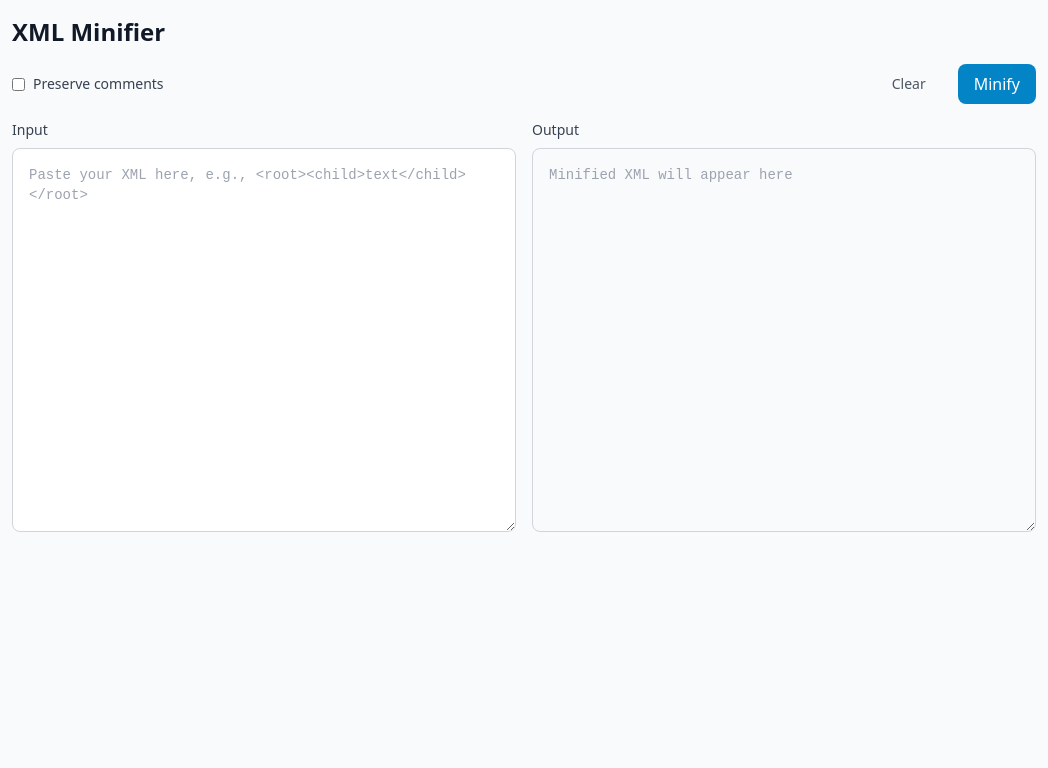
it: XmlMinifier › shows 0% savings for already minified XML
Type "<root/>" into the text box with placeholder "Paste your XML here, e.g., <root><child>text</child></root>". click: (264, 340)
box: [12,148,516,532]
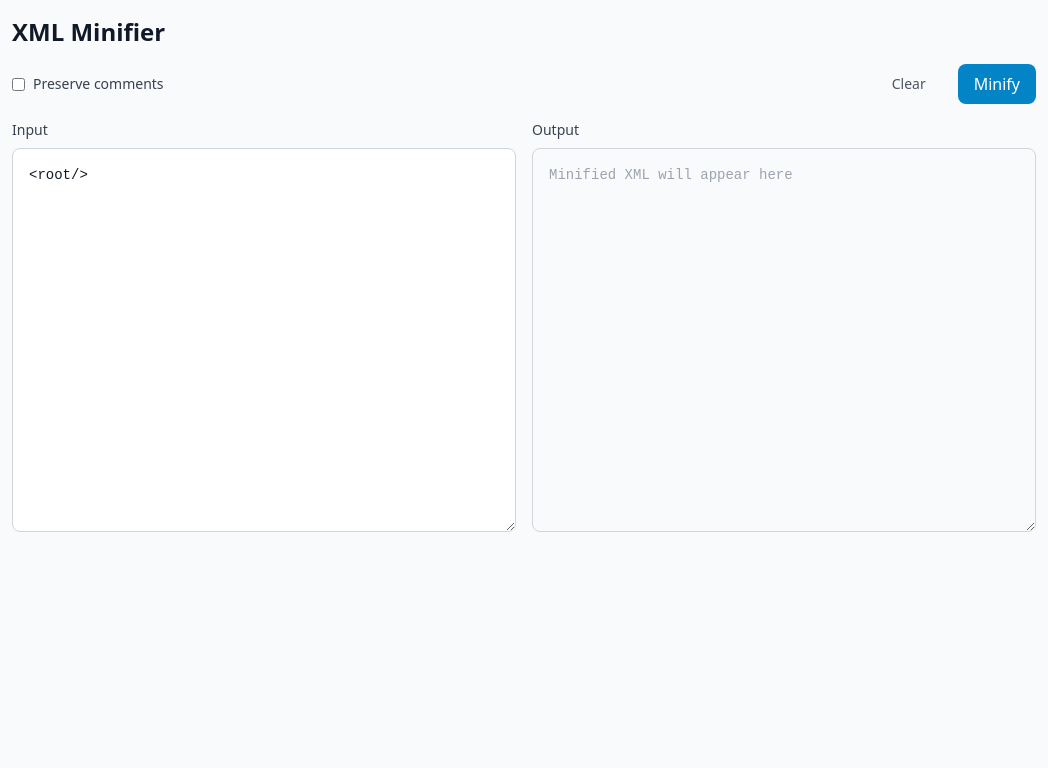
Click the button "Minify". click: (997, 84)
box: [958,64,1036,104]
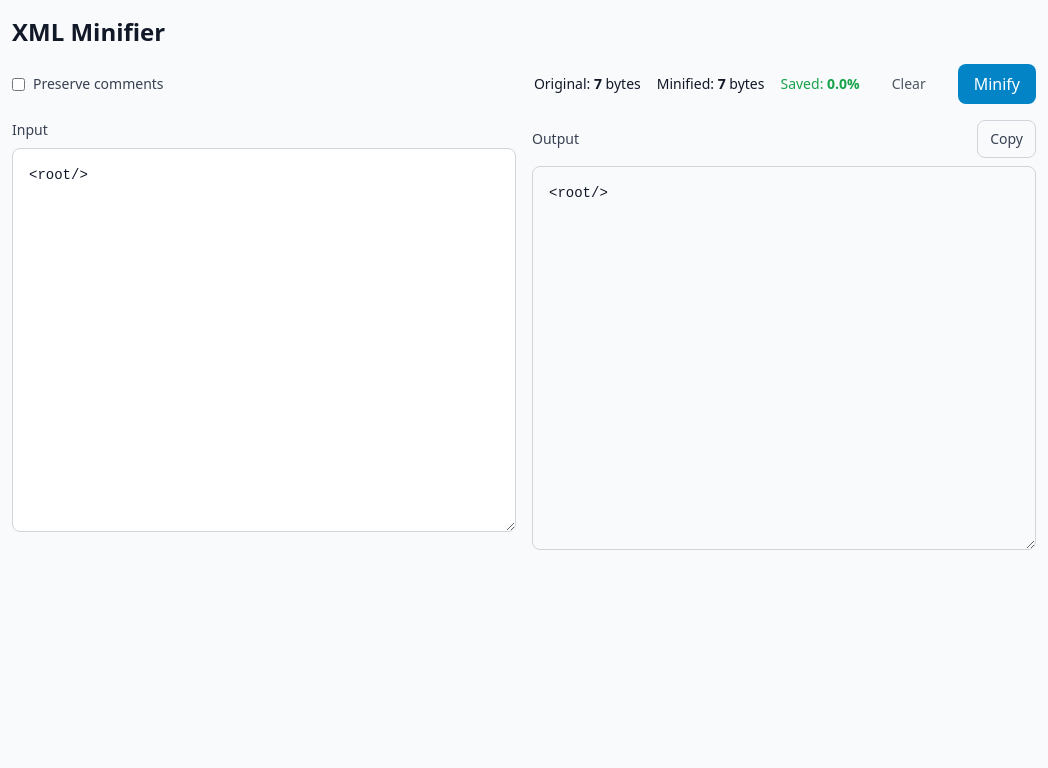
Now the text "Saved: 0.0%" is shown, box [780,74,860,94]
